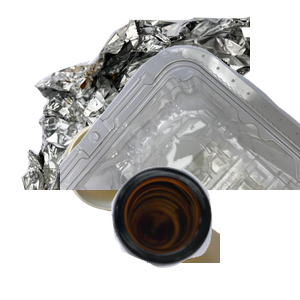glass: (109, 164, 300, 300)
metal: (19, 14, 259, 194)
plastic: (60, 43, 300, 223)
trash: (60, 120, 300, 300)
